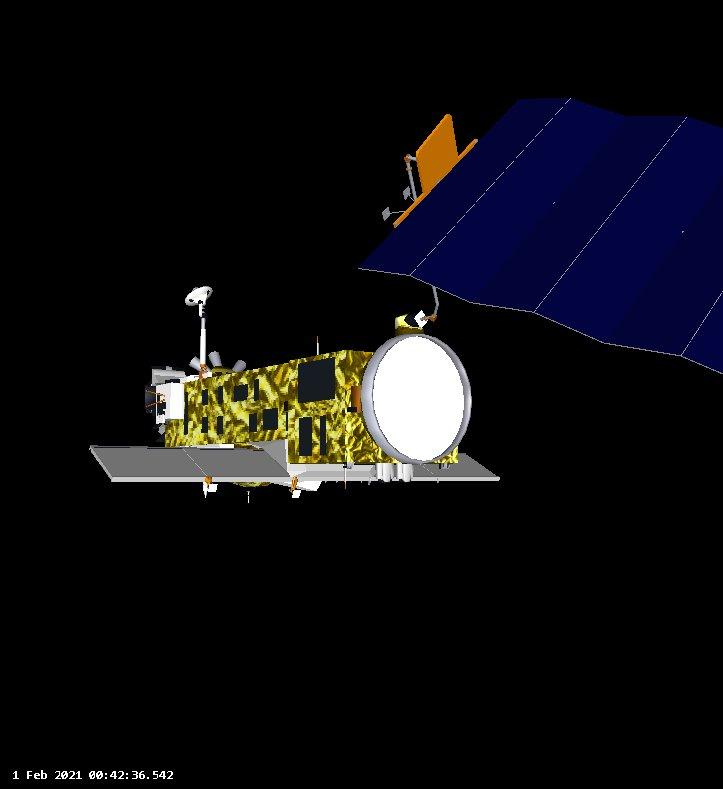antenna: (183, 285, 215, 307), (313, 333, 321, 357)
body: (145, 341, 457, 487)
solar: (356, 91, 723, 377), (86, 443, 292, 483)
thruster: (186, 355, 211, 374), (208, 349, 224, 368), (232, 358, 250, 372)
